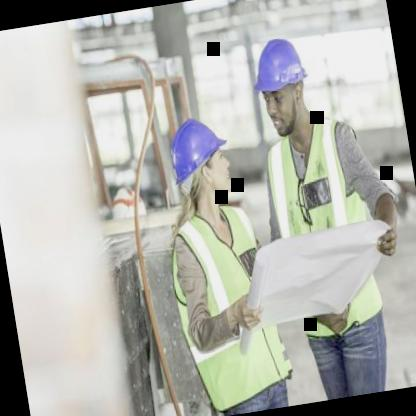helmet: (242, 21, 323, 147), (157, 101, 240, 217)
